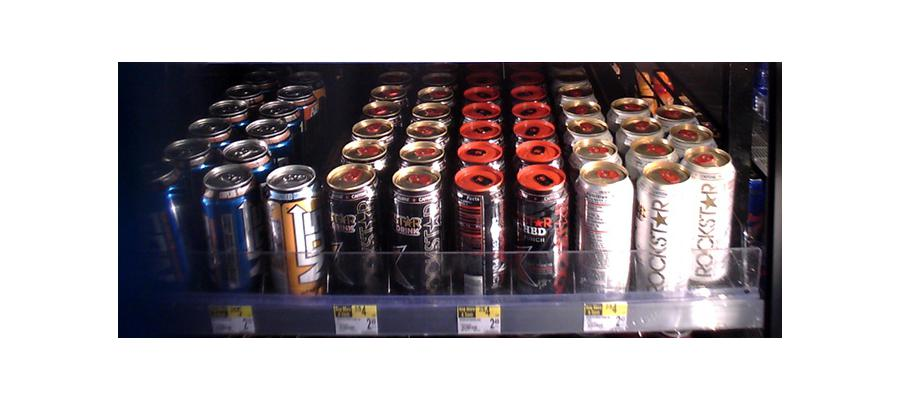bottle: (640, 163, 705, 308), (143, 142, 201, 300), (576, 159, 634, 300), (263, 169, 322, 296), (201, 166, 260, 291), (513, 160, 566, 295), (387, 165, 442, 291), (452, 163, 504, 293), (326, 165, 376, 290)
